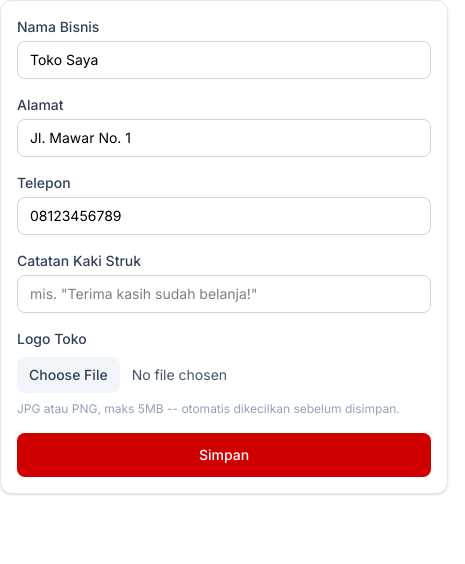
Test: StoreSettingsPage › gagal simpan -- nampilin pesan error, gak nampilin "Tersimpan."
Check: the field labelled "Nama Bisnis" is shown, box [17,41,431,79]
Click the button "Simpan" at (224, 455), box [17,433,431,477]
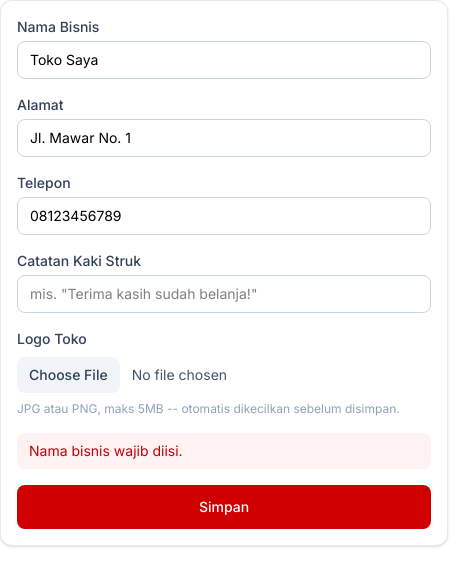
Check: the text "Nama bisnis wajib diisi." is shown, box [17,433,431,469]
